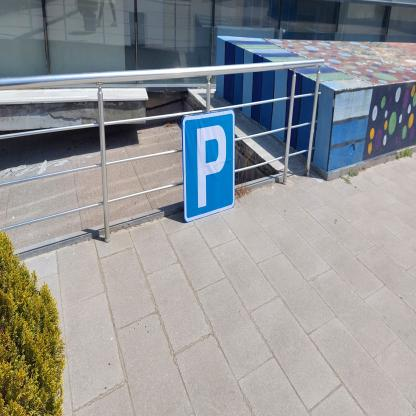Parking-Sign: (183, 110, 237, 225)
